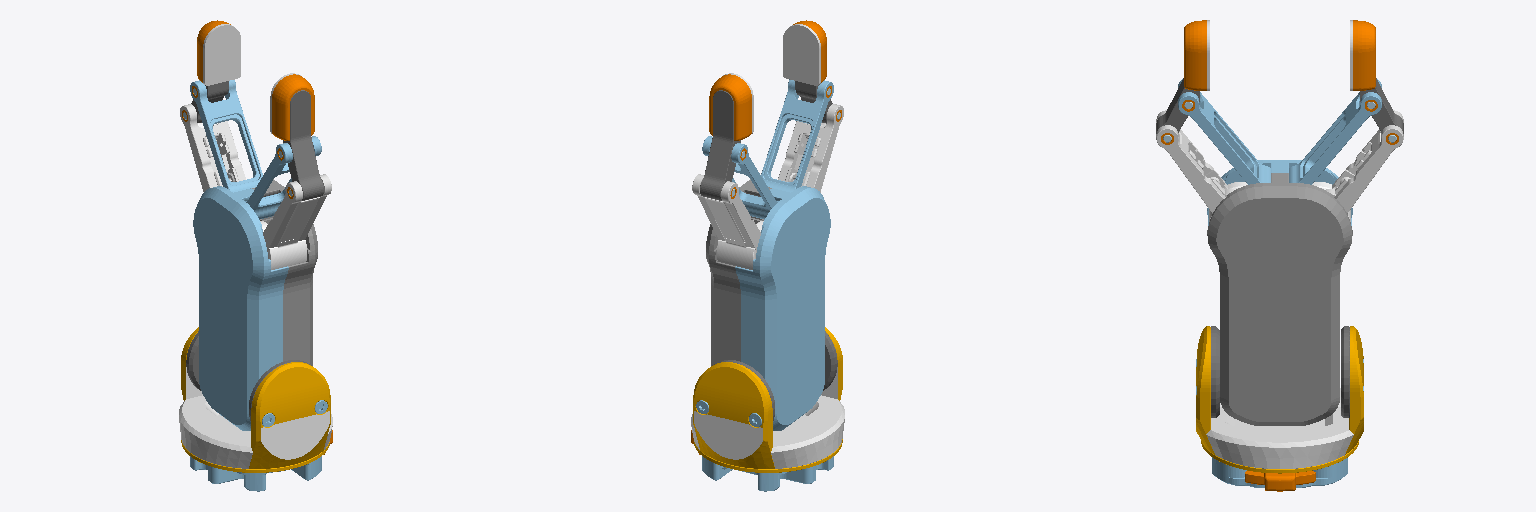
robot.urdf — onrobot_rg2_gripper:
<?xml version="1.0"?>
<robot name="onrobot_rg2_gripper">
    <link name="onrobot_rg2_base_link">
        <visual>
            <geometry>
                <mesh filename="package://par_pkg/meshes/visual/rg2_base_link.dae" />
            </geometry>
        </visual>
        <collision>
            <geometry>
                <mesh filename="package://par_pkg/meshes/collision/rg2_base_link.stl" />
            </geometry>
        </collision>

    </link>
    <link name="left_outer_knuckle">
        <visual>
            <geometry>
                <mesh filename="package://par_pkg/meshes/visual/rg2_outer_knuckle.dae" />
            </geometry>
        </visual>
        <collision>
            <geometry>
                <mesh filename="package://par_pkg/meshes/collision/rg2_outer_knuckle.stl" />
            </geometry>
        </collision>
    </link>
    <link name="left_inner_knuckle">
        <visual>
            <geometry>
                <mesh filename="package://par_pkg/meshes/visual/rg2_inner_knuckle.dae" />
            </geometry>
        </visual>
        <collision>
            <geometry>
                <mesh filename="package://par_pkg/meshes/collision/rg2_inner_knuckle.stl" />
            </geometry>
        </collision>
    </link>
    <link name="left_finger">
        <visual>
            <geometry>
                <mesh filename="package://par_pkg/meshes/visual/rg2_finger.dae" />
            </geometry>
        </visual>
        <collision>
            <geometry>
                <mesh filename="package://par_pkg/meshes/collision/rg2_finger.stl" />
            </geometry>
        </collision>
    </link>
    <link name="right_outer_knuckle">
        <visual>
            <geometry>
                <mesh filename="package://par_pkg/meshes/visual/rg2_outer_knuckle.dae" />
            </geometry>
        </visual>
        <collision>
            <geometry>
                <mesh filename="package://par_pkg/meshes/collision/rg2_outer_knuckle.stl" />
            </geometry>
        </collision>
    </link>
    <link name="right_inner_knuckle">
        <visual>
            <geometry>
                <mesh filename="package://par_pkg/meshes/visual/rg2_inner_knuckle.dae" />
            </geometry>
        </visual>
        <collision>
            <geometry>
                <mesh filename="package://par_pkg/meshes/collision/rg2_inner_knuckle.stl" />
            </geometry>
        </collision>
    </link>
    <link name="right_finger">
        <visual>
            <geometry>
                <mesh filename="package://par_pkg/meshes/visual/rg2_finger.dae" />
            </geometry>
        </visual>
        <collision>
            <geometry>
                <mesh filename="package://par_pkg/meshes/collision/rg2_finger.stl" />
            </geometry>
        </collision>
    </link>
    <!-- <link name="grip_point"/> -->

    <joint name="finger_joint" type="revolute">
        <origin rpy="0 0 1.57079632679" xyz="-0.01 -0.01705 0.1207" />
        <parent link="onrobot_rg2_base_link" />
        <child link="left_outer_knuckle" />
        <axis xyz="0 1 0" />
        <limit effort="1000" lower="1.875697" upper="3.1069965" velocity="1.0" />
    </joint>
    <joint name="right_outer_knuckle_joint" type="revolute">
        <origin rpy="0 0 -1.57079632679" xyz="0.01 0.01695 0.1207"/>
        <parent link="onrobot_rg2_base_link"/>
        <child link="right_outer_knuckle"/>
        <axis xyz="0 1 0"/>
         <limit effort="1000" lower="1.875697" upper="3.1069965" velocity="1.0" />
        <mimic joint="finger_joint" multiplier="1" offset="0"/>
      </joint>
      <joint name="left_inner_knuckle_joint" type="revolute">
        <origin rpy="0 0 1.57079632679" xyz="0.01 -0.00755 0.1372"/>
        <parent link="onrobot_rg2_base_link"/>
        <child link="left_inner_knuckle"/>
        <axis xyz="0 1 0"/>
         <limit effort="1000" lower="1.875697" upper="3.1069965" velocity="1.0" />
        <mimic joint="finger_joint" multiplier="1" offset="0"/>
      </joint>
      <joint name="right_inner_knuckle_joint" type="revolute">
        <origin rpy="0 0 -1.57079632679" xyz="-0.01 0.00745 0.1372"/>
        <parent link="onrobot_rg2_base_link"/>
        <child link="right_inner_knuckle"/>
        <axis xyz="0 1 0"/>
         <limit effort="1000" lower="1.875697" upper="3.1069965" velocity="1.0" />
        <mimic joint="finger_joint" multiplier="1" offset="0"/>
      </joint>

      <joint name="left_finger_joint" type="revolute">
        <origin rpy="1.57079632679 -0.974896 0" xyz=" 0 -0.01 -0.055"/>
        <parent link="left_outer_knuckle"/>
        <child link="left_finger"/>
        <axis xyz="0 0 -1"/>
         <limit effort="1000" lower="1.875697" upper="3.1069965" velocity="1.0" />
        <mimic joint="finger_joint" multiplier="-1" offset="0"/>
      </joint>

      <joint name="right_finger_joint" type="revolute">
        <origin rpy="1.57079632679 -0.974896 0" xyz=" 0 -0.01 -0.055"/>
        <parent link="right_outer_knuckle"/>
        <child link="right_finger"/>
        <axis xyz="0 0 1"/>
         <limit effort="1000" lower="1.875697" upper="3.1069965" velocity="1.0" />
        <mimic joint="finger_joint" multiplier="1" offset="0"/>
      </joint>

      <transmission name="finger_joint_trans">
        <type>transmission_interface/SimpleTransmission</type>
        <joint name="finger_joint">
          <hardwareInterface>PositionJointInterface</hardwareInterface>
        </joint>
        <actuator name="finger_joint_motor">
          <mechanicalReduction>1</mechanicalReduction>
        </actuator>
      </transmission>

</robot>

--- What the picture shows (computed from the rendered views, not written in the file) ---
Views: 3 orthographic renders of the robot side by side, from view 1: azimuth 30°, elevation 25°; view 2: azimuth 150°, elevation 25°; view 3: azimuth 270°, elevation 25°.
Model onrobot_rg2_gripper with 7 links and 6 joints (6 revolute), rooted at onrobot_rg2_base_link, posed all joints at 0 but 6 set to mid-range because 0 is outside their limits (finger_joint = 2.49, right_outer_knuckle_joint = 2.49, left_inner_knuckle_joint = 2.49, right_inner_knuckle_joint = 2.49, left_finger_joint = -2.49, right_finger_joint = 2.49).
Links seen in each view (by area): view 1: onrobot_rg2_base_link, left_finger, left_outer_knuckle, right_finger, right_inner_knuckle, right_outer_knuckle, left_inner_knuckle; view 2: onrobot_rg2_base_link, right_finger, right_outer_knuckle, left_finger, left_inner_knuckle, left_outer_knuckle, right_inner_knuckle; view 3: onrobot_rg2_base_link, left_inner_knuckle, right_inner_knuckle, left_outer_knuckle, right_outer_knuckle, right_finger, left_finger.
Boxes of the visible links, x1,y1,x2,y2 form: onrobot_rg2_base_link: (179, 179, 332, 491); left_finger: (270, 73, 323, 200); left_outer_knuckle: (260, 174, 331, 269); right_finger: (183, 20, 240, 122); right_inner_knuckle: (190, 80, 262, 192); right_outer_knuckle: (180, 104, 245, 191); left_inner_knuckle: (245, 136, 321, 219); onrobot_rg2_base_link: (691, 179, 844, 491); right_finger: (700, 73, 753, 200); right_outer_knuckle: (692, 174, 763, 269); left_finger: (783, 20, 840, 123); left_inner_knuckle: (761, 79, 833, 192); left_outer_knuckle: (778, 104, 843, 192); right_inner_knuckle: (702, 136, 778, 219); onrobot_rg2_base_link: (1196, 160, 1363, 491); left_inner_knuckle: (1178, 79, 1270, 184); right_inner_knuckle: (1289, 79, 1381, 184); left_outer_knuckle: (1156, 110, 1247, 221); right_outer_knuckle: (1312, 110, 1403, 221); right_finger: (1350, 20, 1403, 142); left_finger: (1156, 20, 1209, 142).
Bounding box of the posed robot: 0.0753 × 0.1106 × 0.2173 m (x, y, z).
7 mesh visuals loaded from 4 distinct referenced files (4 Collada DAE).